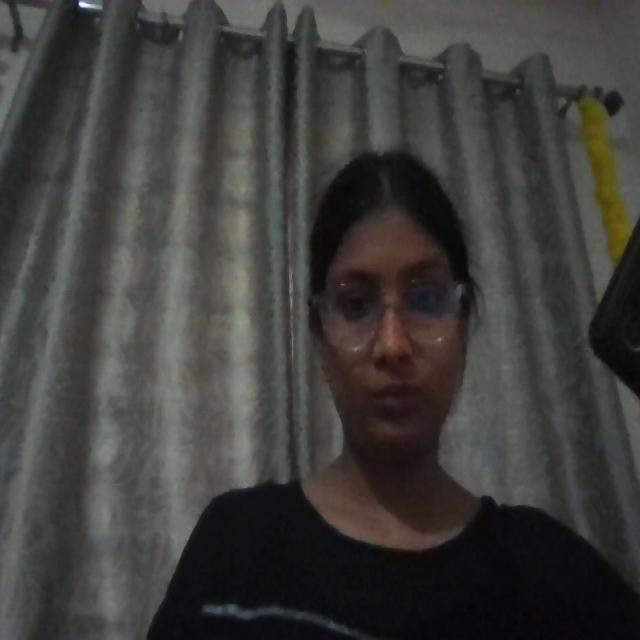phone: (589, 219, 639, 397)
